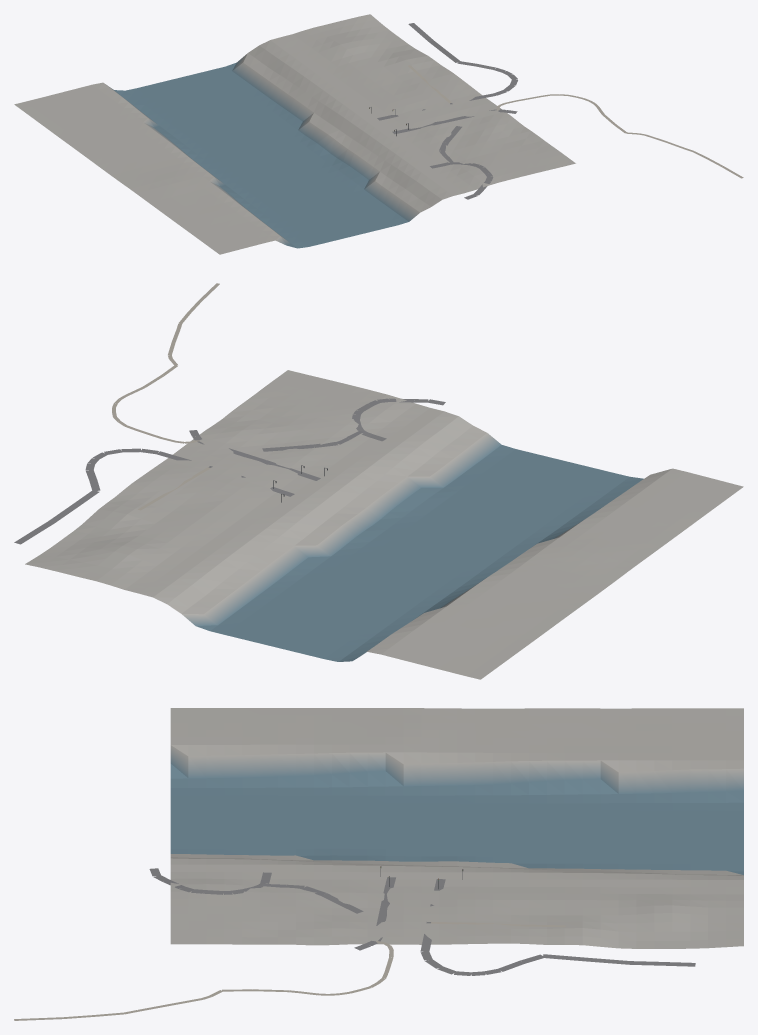
File: tile_2_2.glb
The picture shows the model from 3 angles, top to bottom: view 1: azimuth 30°, elevation 25°; view 2: azimuth 150°, elevation 25°; view 3: azimuth 270°, elevation 25°; orthographic projection. The views are drawn at different scales.
Parts seen in each view (by area): view 1: terrain, roads, paths; view 2: terrain, roads, paths; view 3: terrain, roads, paths.
Boxes of the visible parts, x1,y1,x2,y2 form: terrain: (14, 14, 575, 254); roads: (377, 23, 517, 199); paths: (408, 65, 743, 178); terrain: (25, 370, 743, 679); roads: (14, 398, 445, 544); paths: (112, 283, 219, 510); terrain: (170, 708, 743, 948); roads: (149, 868, 695, 975); paths: (14, 921, 565, 1020).
Bounding box in the file's own units: 336 × 15.86 × 326.
